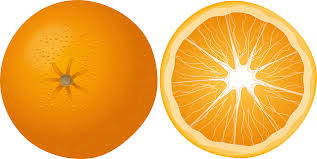orange: (1, 1, 163, 158), (154, 1, 311, 159)
